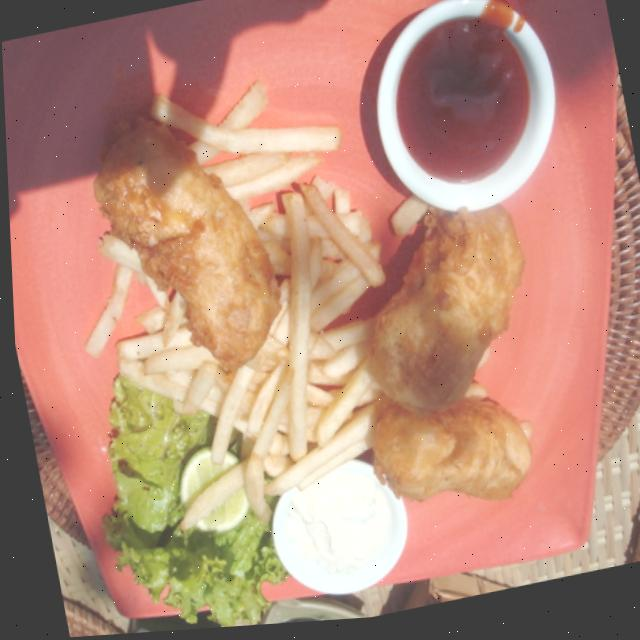炸货点心: (71, 48, 596, 635)
熟制海鲜: (71, 48, 596, 635)
